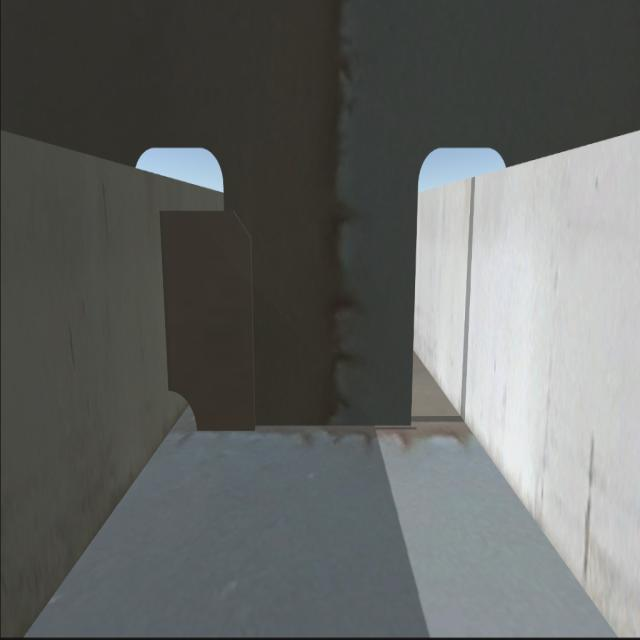fillet_hole: (163, 389, 198, 437)
fillet_yong_jeop_jang: (194, 423, 409, 434)
longi_yong_jeop_jang: (156, 214, 175, 388)
plate_CP03: (158, 205, 256, 432)
